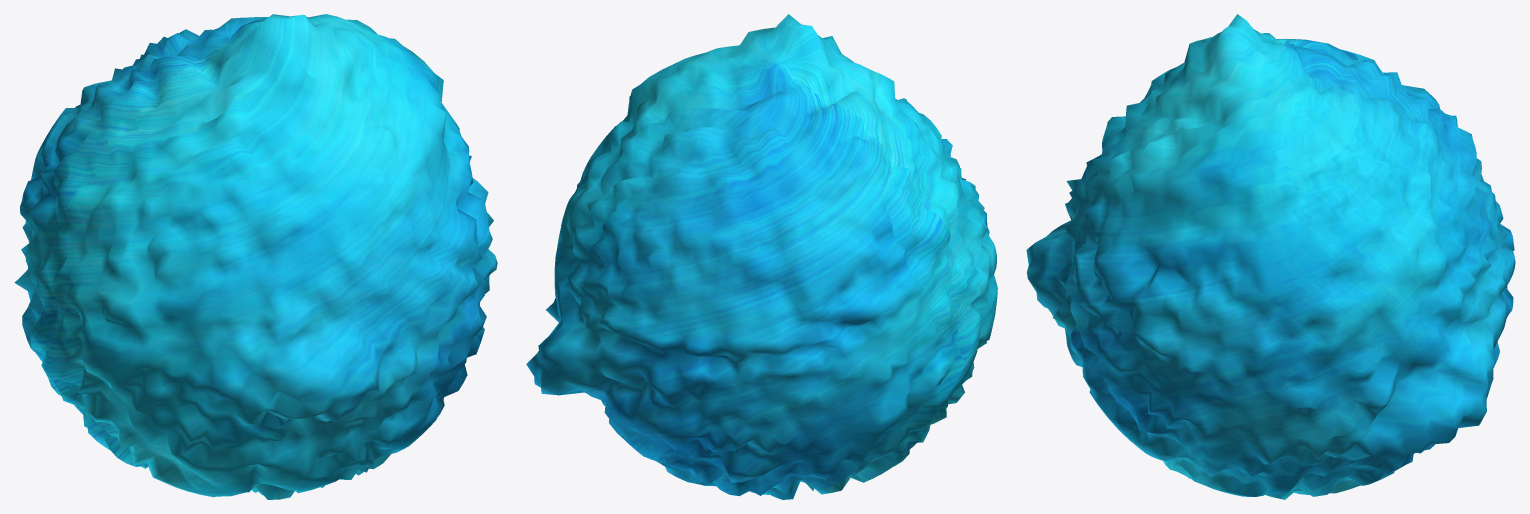
Rendered from burning_planet.FBX.
3 renders of one model, left to right at view 1: azimuth 30°, elevation 25°; view 2: azimuth 150°, elevation 25°; view 3: azimuth 270°, elevation 25°, orthographic. The views are drawn at different scales.
Visible parts, largest first — view 1: GeoSphere001; view 2: GeoSphere001; view 3: GeoSphere001.
Part boxes in pixels (box(x1,y1,x2,y2)): GeoSphere001: box(14, 14, 497, 499); GeoSphere001: box(526, 14, 997, 499); GeoSphere001: box(1026, 14, 1515, 499).
Bounding box in the file's own units: 25.99 × 27.72 × 28.71.
Materials: 1 (1 with a texture image).
